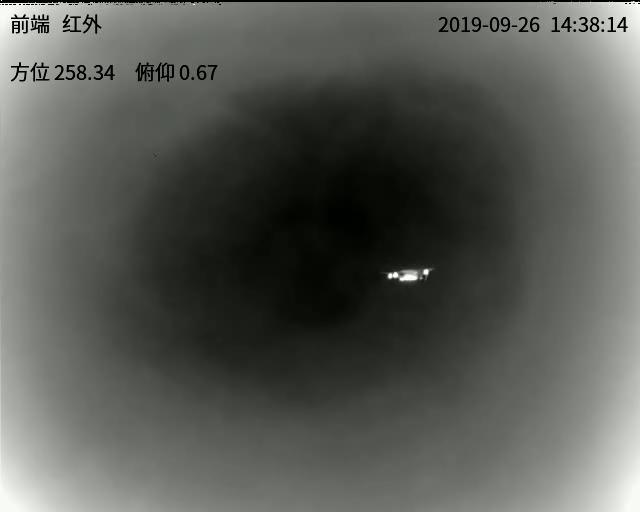uav: (379, 263, 435, 288)
